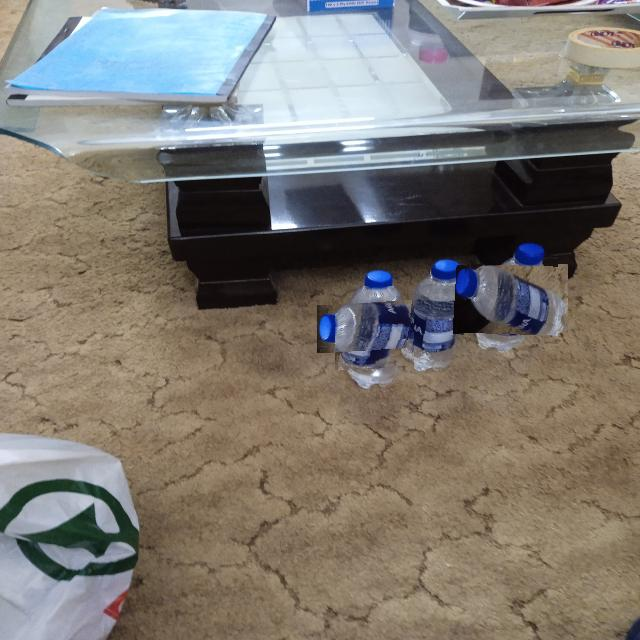Plastic: (468, 253, 558, 344), (335, 286, 420, 371), (414, 257, 468, 372)
